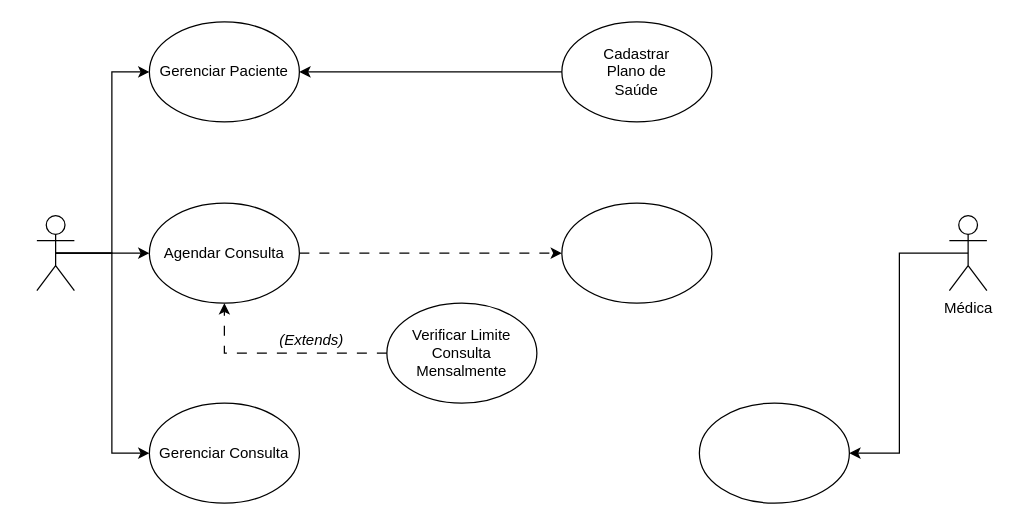
Image size: 1014x525. Some labels were removed from this diagram. Here are the shapes that lost their labels. From the top down, the centre of each, then its label:
At (55,252): "Secretária".
At (636,252): "Verificar Consulta".
At (773,452): "Vincular Agendamentos".
